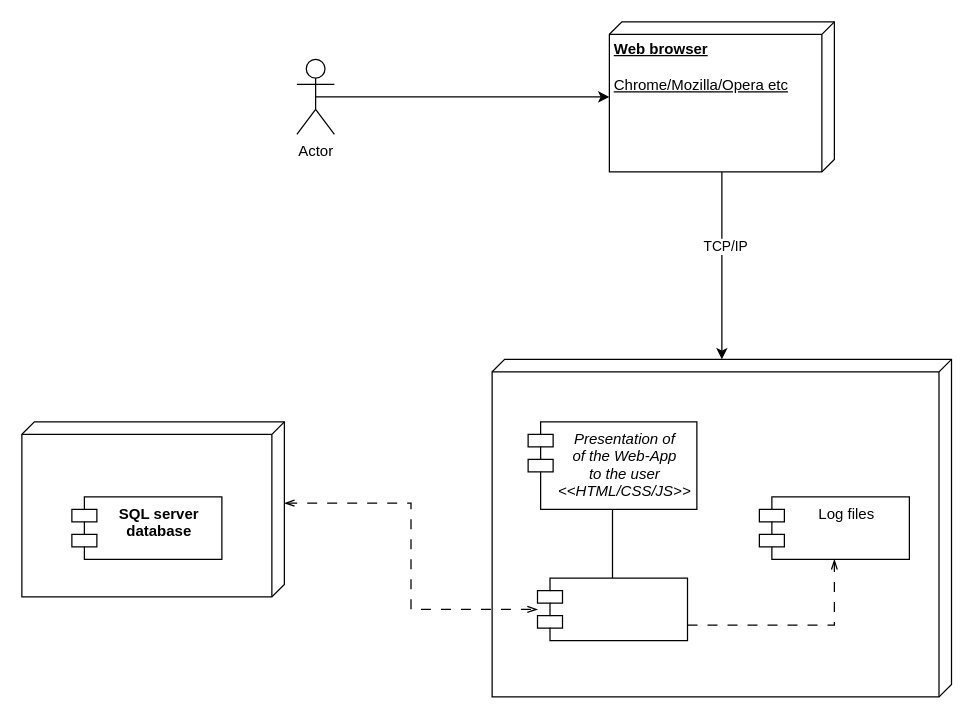
This 974x719 diagram has some shape labels left out. The box of each missing label's shape, as (x1, y1, x2, y2) in pixels:
Database server <<SQL>>: (21, 421, 284, 597)
Interface of the database: (536, 577, 688, 641)
Inventory system server: (491, 358, 952, 697)
